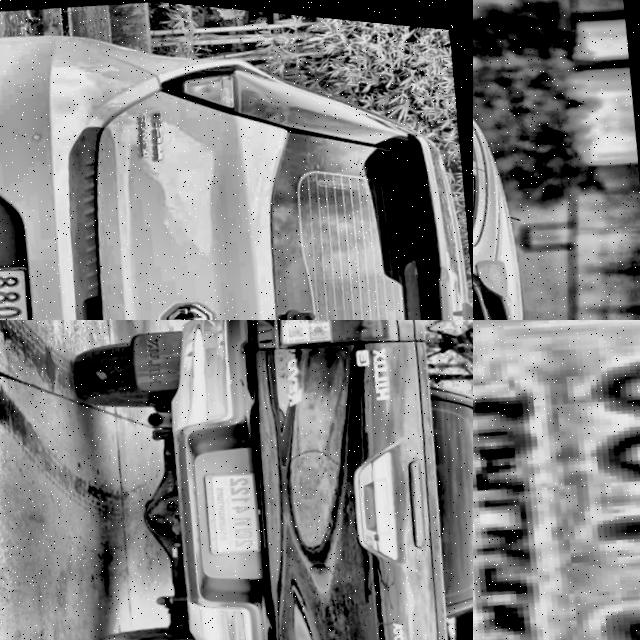license-plate: (473, 320, 640, 640), (198, 456, 278, 557), (0, 251, 52, 320)
